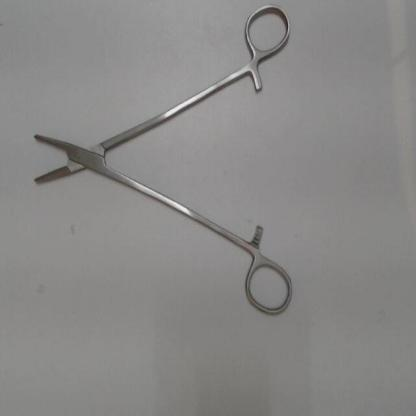8 Mayo Needle Holder: (20, 3, 302, 324)
